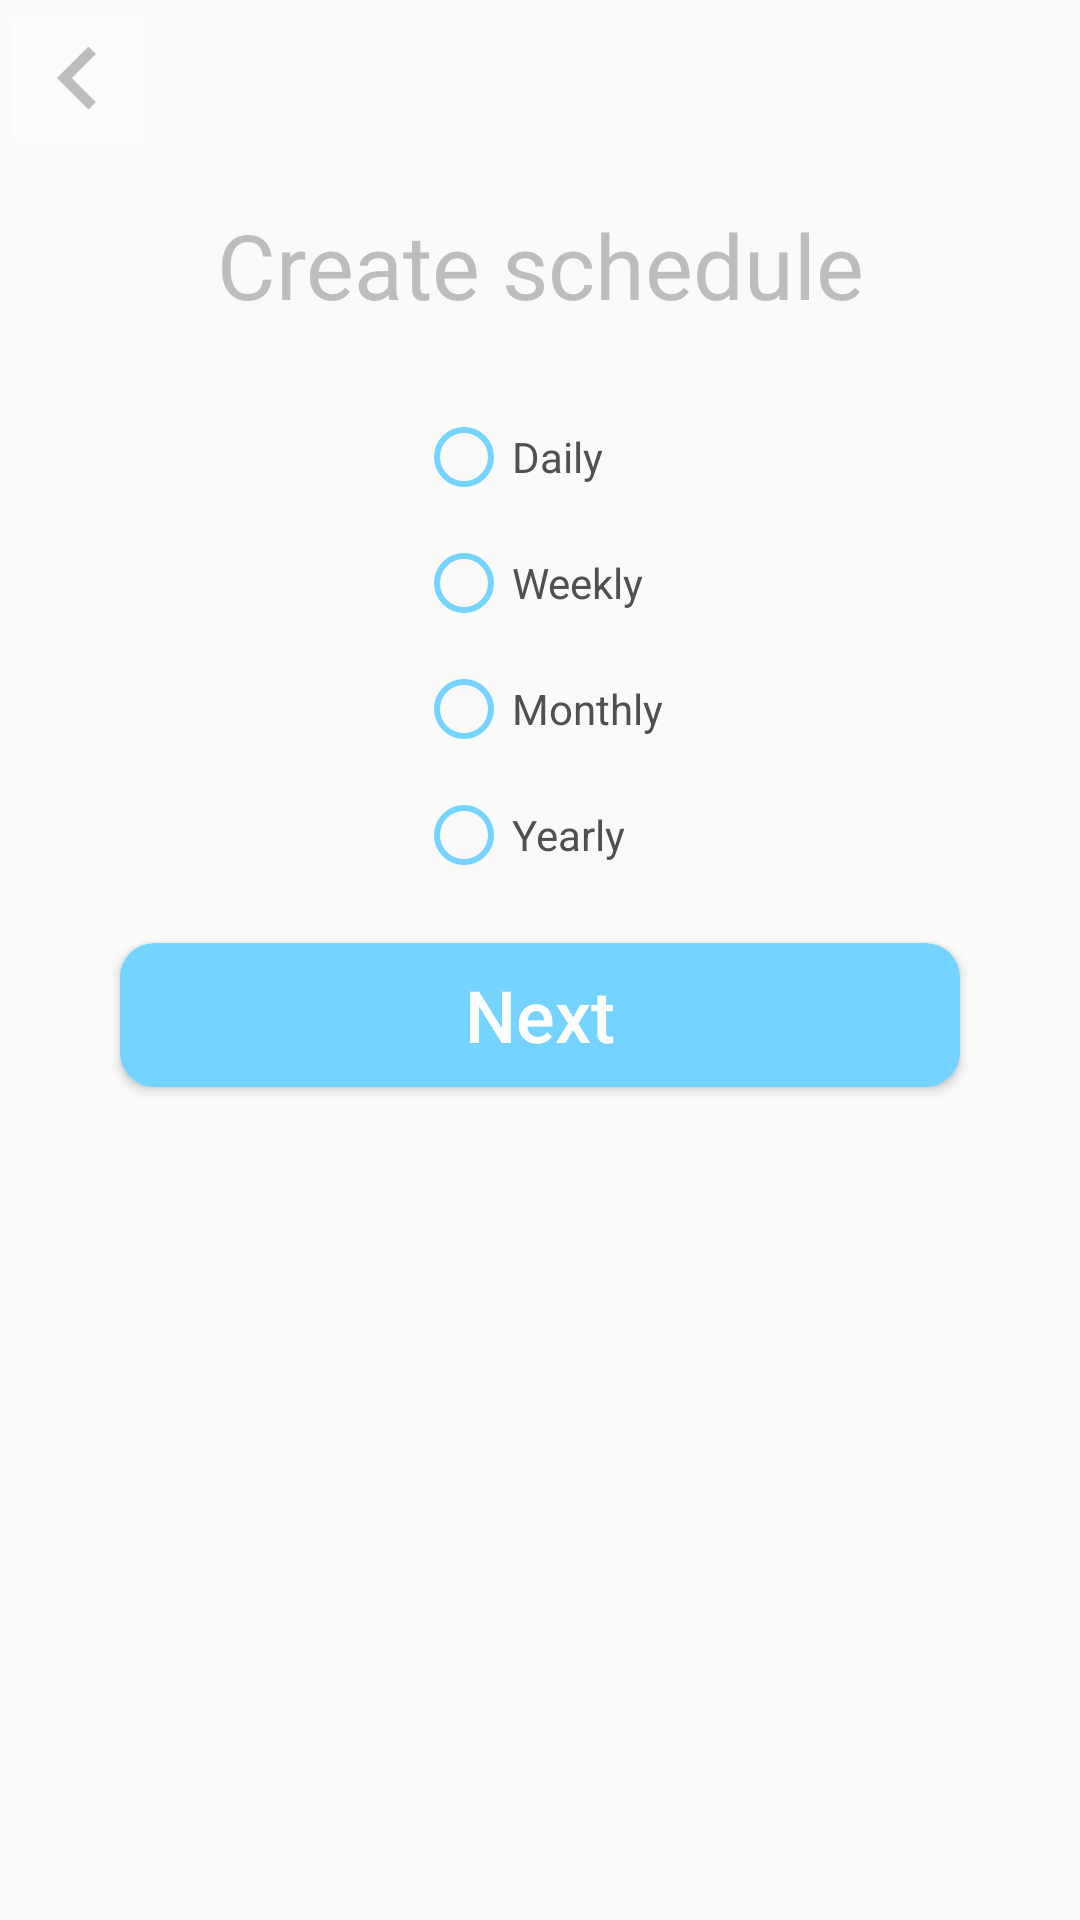

Where to tap for icons on this 1080 × 1920 app screen, as [x,y]:
back: [76,78]
